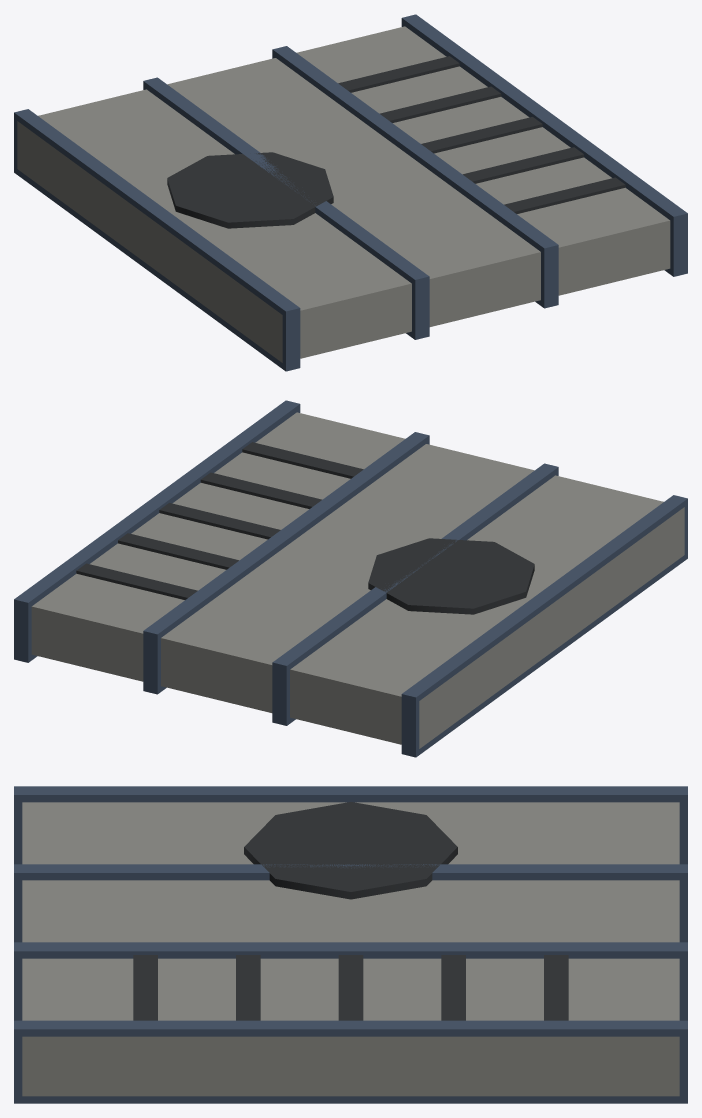
File: kz6_climate.obj
3 views of the same model, one above another, from view 1: azimuth 30°, elevation 25°; view 2: azimuth 150°, elevation 25°; view 3: azimuth 270°, elevation 25° (orthographic). The views are drawn at different scales.
Parts seen in each view (by area): view 1: kz6_climate; view 2: kz6_climate; view 3: kz6_climate.
Part boxes in pixels (x1=…): kz6_climate: x1=14, y1=14, x2=687, y2=371; kz6_climate: x1=14, y1=400, x2=687, y2=757; kz6_climate: x1=14, y1=786, x2=687, y2=1103.
Bounding box in the file's own units: 1.4 × 0.2 × 1.64.
